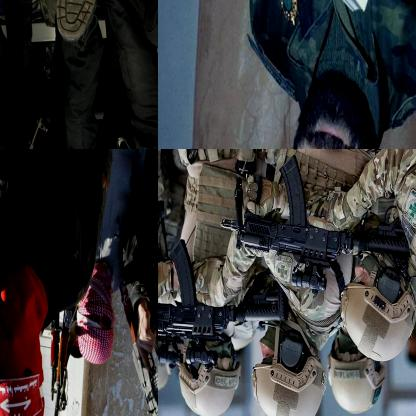rifle: (219, 155, 415, 299), (158, 237, 290, 368), (122, 287, 157, 415), (47, 305, 75, 415)
